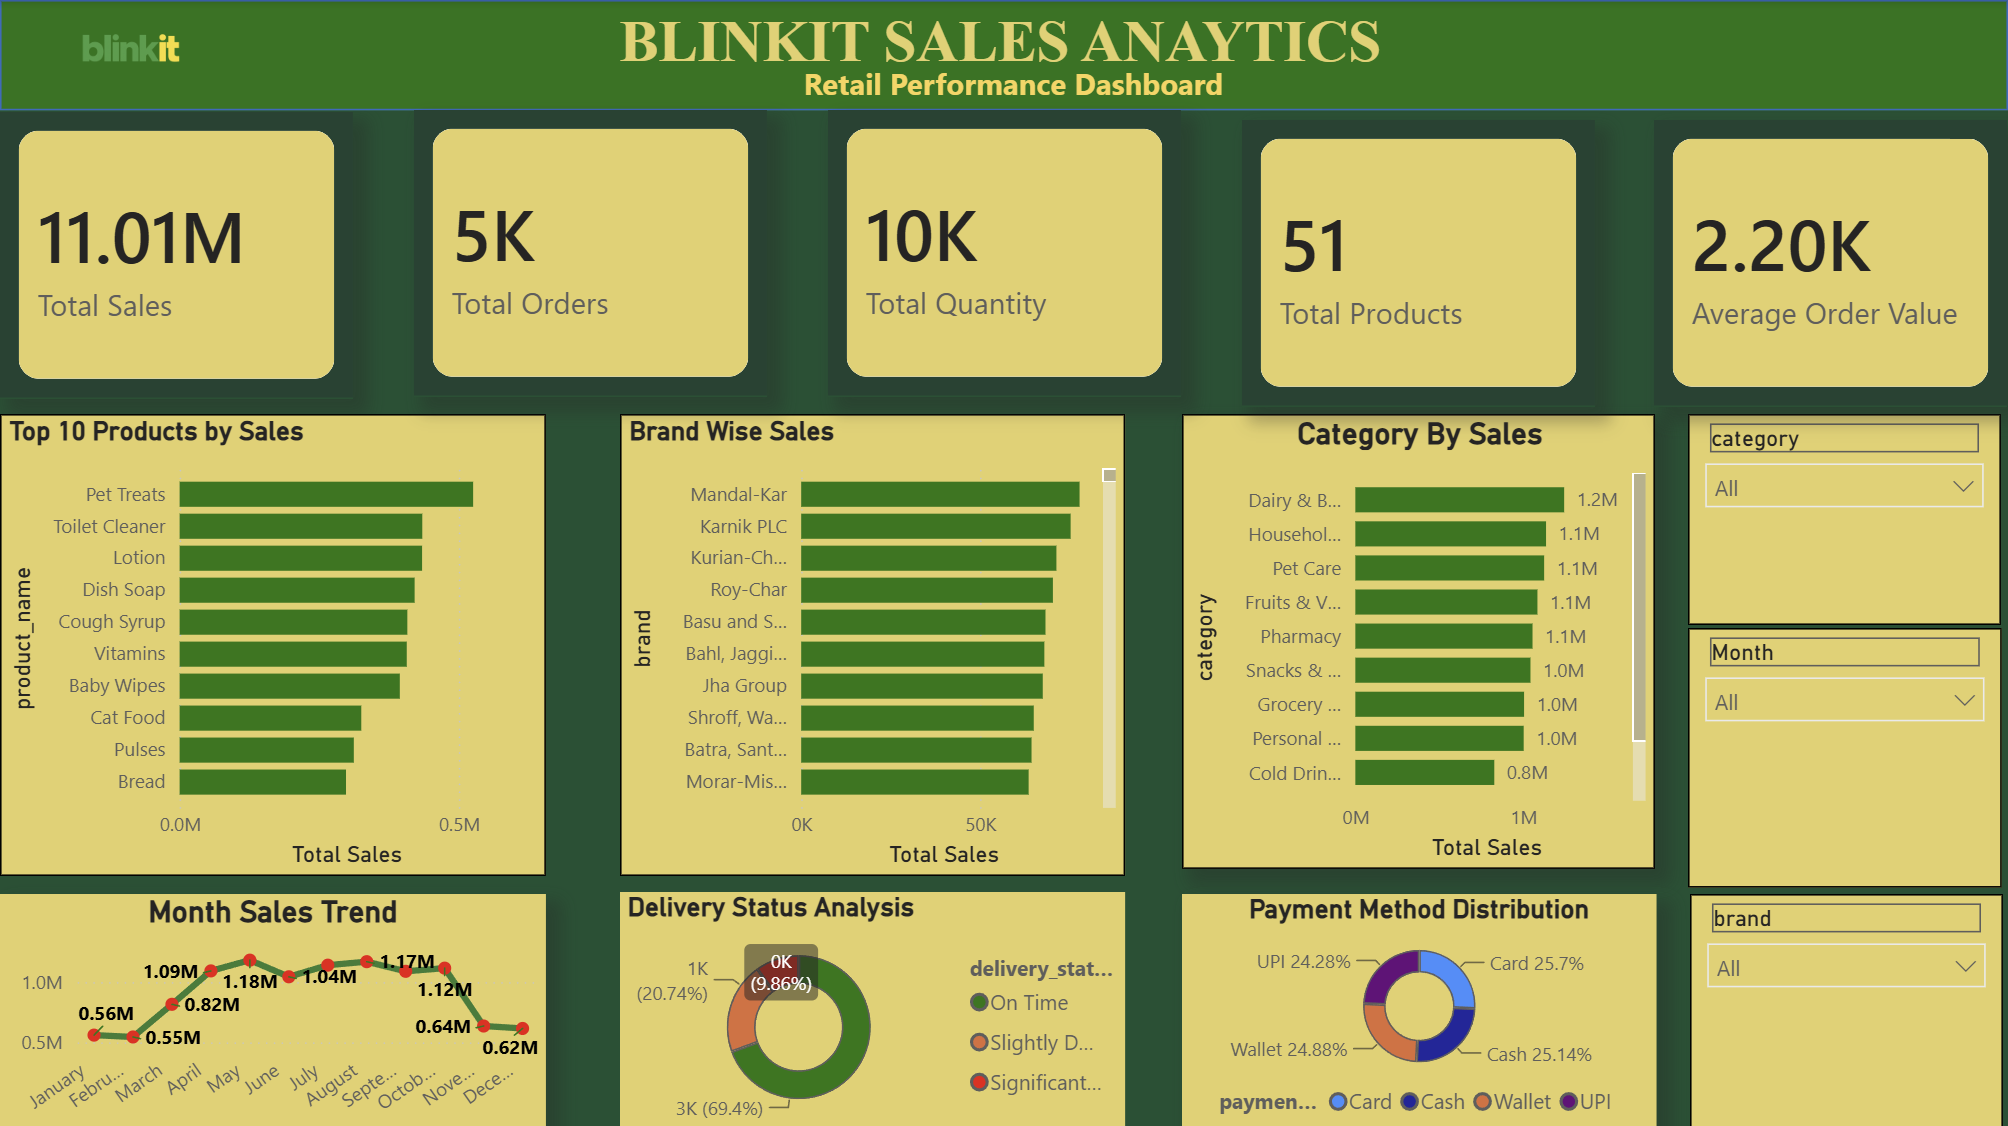

This screenshot's page, from the dashboard's own definition file:
{"tool":"powerbi","page":{"name":"Page 1","canvas":[1280,720],"ordinal":0},"visuals":[{"type":"cardVisual","fields":{"Data":["blinkit_cleaned.Total Sales"]},"box":[0,71,225.1,182.9],"z":0},{"type":"lineChart","title":"Month Sales Trend","fields":{"Category":["blinkit_cleaned.Month"],"Y":["blinkit_cleaned.Total Sales"]},"box":[0,569.9,348.1,151.3],"z":1000},{"type":"clusteredBarChart","title":"Category By Sales","fields":{"Category":["blinkit_cleaned.category"],"Y":["blinkit_cleaned.Total Sales"]},"box":[753,263.9,301.4,290],"z":2000},{"type":"clusteredBarChart","title":"Top 10 Products by Sales","fields":{"Category":["blinkit_cleaned.product_name"],"Y":["blinkit_cleaned.Total Sales"]},"box":[0,263.9,348.1,294.6],"z":3000},{"type":"donutChart","title":"Payment Method Distribution","fields":{"Category":["blinkit_cleaned.payment_method"],"Y":["blinkit_cleaned.Total Orders"]},"box":[753,569.9,302.6,151.3],"z":4000},{"type":"donutChart","title":"Delivery Status Analysis ","fields":{"Category":["blinkit_cleaned.delivery_status"],"Y":["blinkit_cleaned.Total Orders"]},"box":[394.7,568.7,321.9,151.3],"z":5000},{"type":"clusteredBarChart","title":"Brand Wise Sales","fields":{"Category":["blinkit_cleaned.brand"],"Y":["blinkit_cleaned.Total Sales"]},"box":[394.7,263.9,321.9,294.6],"z":6000},{"type":"slicer","fields":{"Values":["blinkit_cleaned.Month"]},"box":[1076.2,400,200,165.7],"z":7000},{"type":"slicer","fields":{"Values":["blinkit_cleaned.category"]},"box":[1076.5,263.9,199.3,134.7],"z":8000},{"type":"slicer","fields":{"Values":["blinkit_cleaned.brand"]},"box":[1076.7,569.6,199.4,149.9],"z":9000},{"type":"shape","box":[0,0,1280,70.3],"z":10000},{"type":"textbox","box":[0,0,1275.1,64.8],"z":11000},{"type":"textbox","box":[507.3,35.3,295.7,40.9],"z":12000},{"type":"cardVisual","fields":{"Data":["blinkit_cleaned.Total Orders"]},"box":[264.4,70.3,225.1,182.9],"z":13000},{"type":"cardVisual","fields":{"Data":["blinkit_cleaned.Total Quantity"]},"box":[527.5,70.3,225.1,182.9],"z":14000},{"type":"cardVisual","fields":{"Data":["blinkit_cleaned.Total Products"]},"box":[791.9,76,225.1,182.9],"z":15000},{"type":"cardVisual","fields":{"Data":["blinkit_cleaned.Average Order Value"]},"box":[1054.9,76,225.1,182.9],"z":16000},{"type":"image","box":[0,0,174,64.8],"z":16001}]}

Visuals, with their boxes in screenshot pixels (x1, y1, x2, y2), scaled from the page's 1280x720 canvas onto the 2008x1126 screenshot:
cardVisual - blinkit_cleaned.Total Sales: rect(0, 111, 353, 397)
"Month Sales Trend" lineChart: rect(0, 891, 546, 1125)
"Category By Sales" clusteredBarChart: rect(1181, 413, 1654, 866)
"Top 10 Products by Sales" clusteredBarChart: rect(0, 413, 546, 873)
"Payment Method Distribution" donutChart: rect(1181, 891, 1656, 1125)
"Delivery Status Analysis " donutChart: rect(619, 889, 1124, 1125)
"Brand Wise Sales" clusteredBarChart: rect(619, 413, 1124, 873)
slicer - blinkit_cleaned.Month: rect(1688, 626, 2002, 885)
slicer - blinkit_cleaned.category: rect(1689, 413, 2001, 623)
slicer - blinkit_cleaned.brand: rect(1689, 891, 2002, 1125)
shape: rect(0, 0, 2007, 110)
textbox: rect(0, 0, 2000, 101)
textbox: rect(796, 55, 1260, 119)
cardVisual - blinkit_cleaned.Total Orders: rect(415, 110, 768, 396)
cardVisual - blinkit_cleaned.Total Quantity: rect(828, 110, 1181, 396)
cardVisual - blinkit_cleaned.Total Products: rect(1242, 119, 1595, 405)
cardVisual - blinkit_cleaned.Average Order Value: rect(1655, 119, 2007, 405)
image: rect(0, 0, 273, 101)
